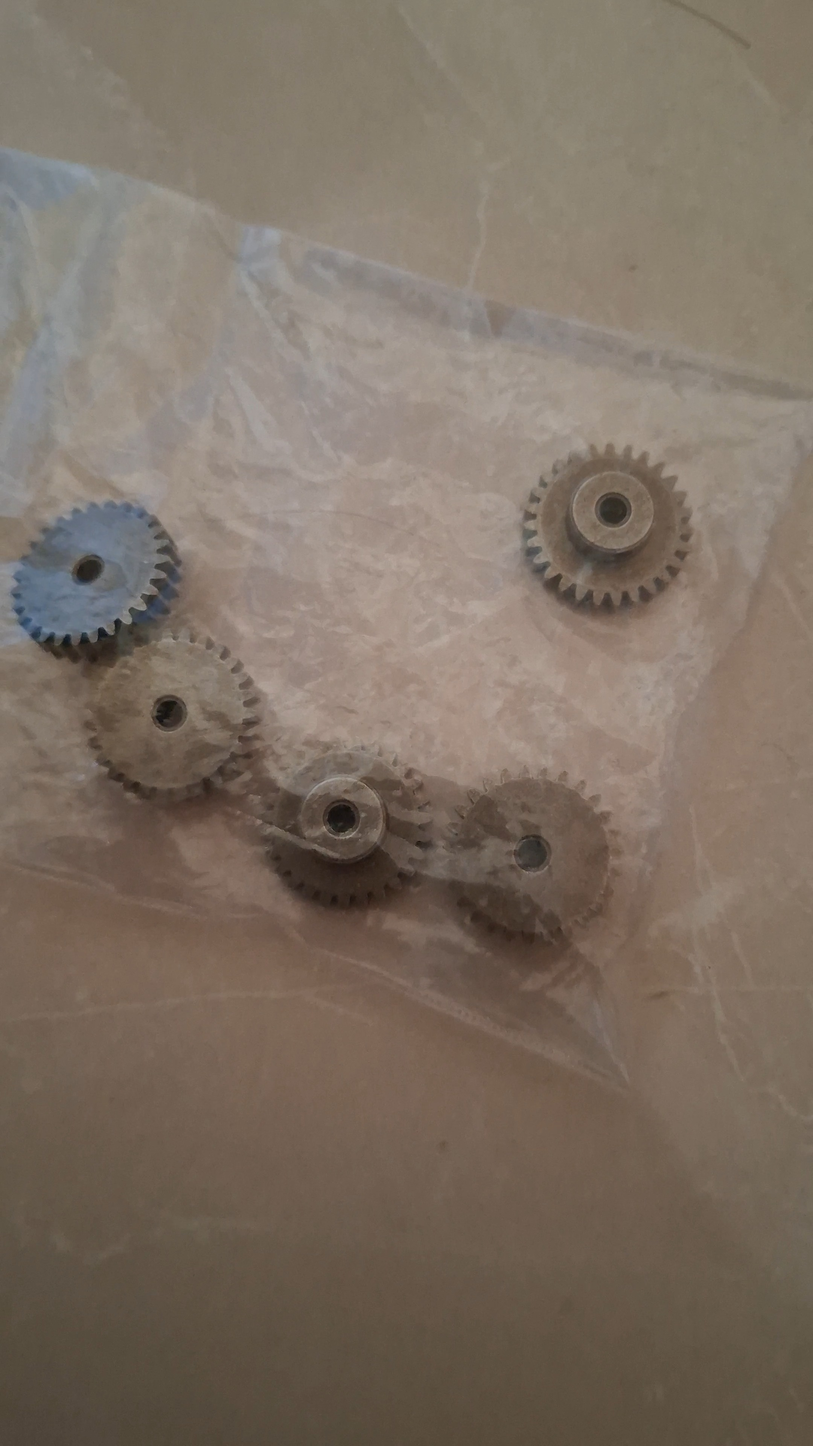spur gear: (88, 631, 259, 799), (449, 772, 614, 941), (524, 444, 692, 605), (260, 747, 429, 906), (12, 501, 180, 648)
